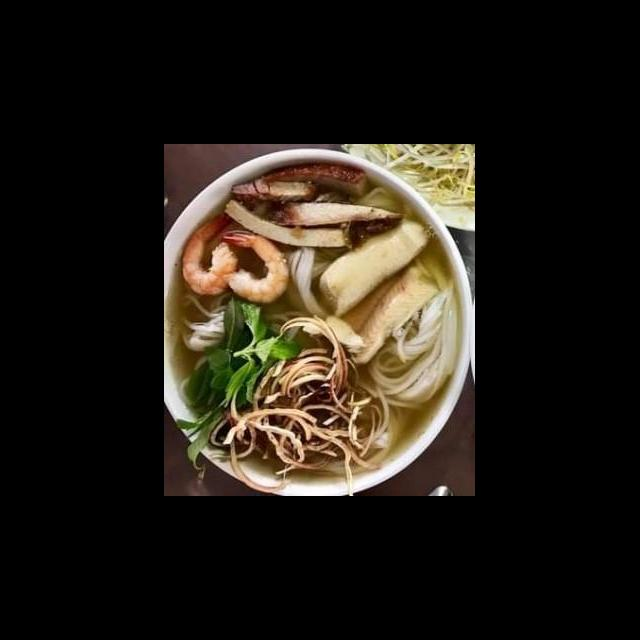bun: (360, 272, 466, 409), (174, 285, 242, 356), (282, 241, 332, 327)
ca: (340, 250, 446, 371), (318, 213, 434, 320)
thit heo quay: (220, 195, 350, 252), (260, 198, 408, 239), (258, 157, 374, 198), (226, 176, 322, 204)
tom: (217, 225, 294, 308), (178, 207, 240, 298)
